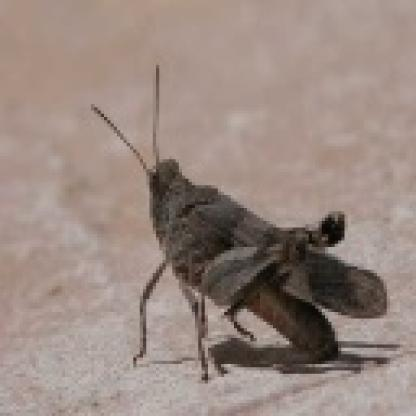grasshopper: (93, 63, 389, 380)
